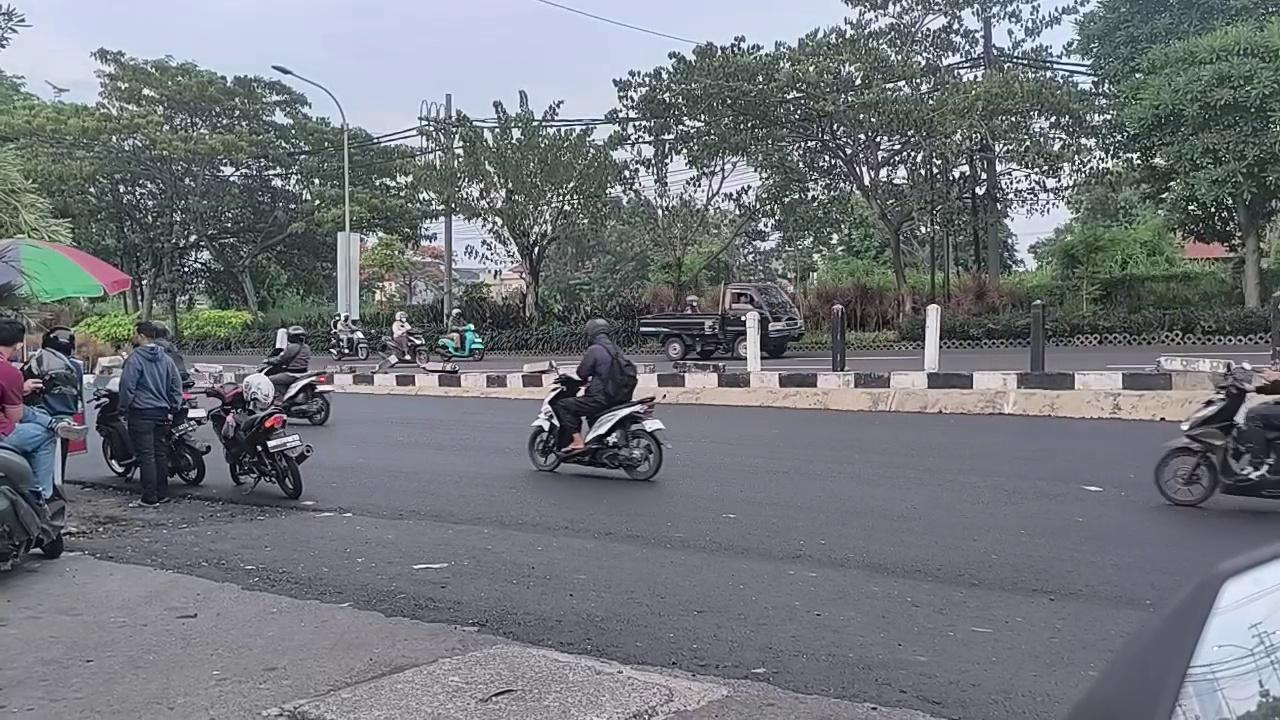Helmet: (552, 318, 621, 453), (1239, 368, 1279, 478), (264, 325, 310, 402), (374, 311, 412, 372), (332, 312, 356, 353), (448, 308, 465, 352)
Motor: (1154, 363, 1279, 505), (527, 374, 666, 480), (204, 384, 313, 499), (0, 444, 66, 569), (166, 391, 210, 484), (277, 371, 333, 425), (377, 332, 430, 366), (436, 324, 484, 361), (327, 329, 369, 361)
